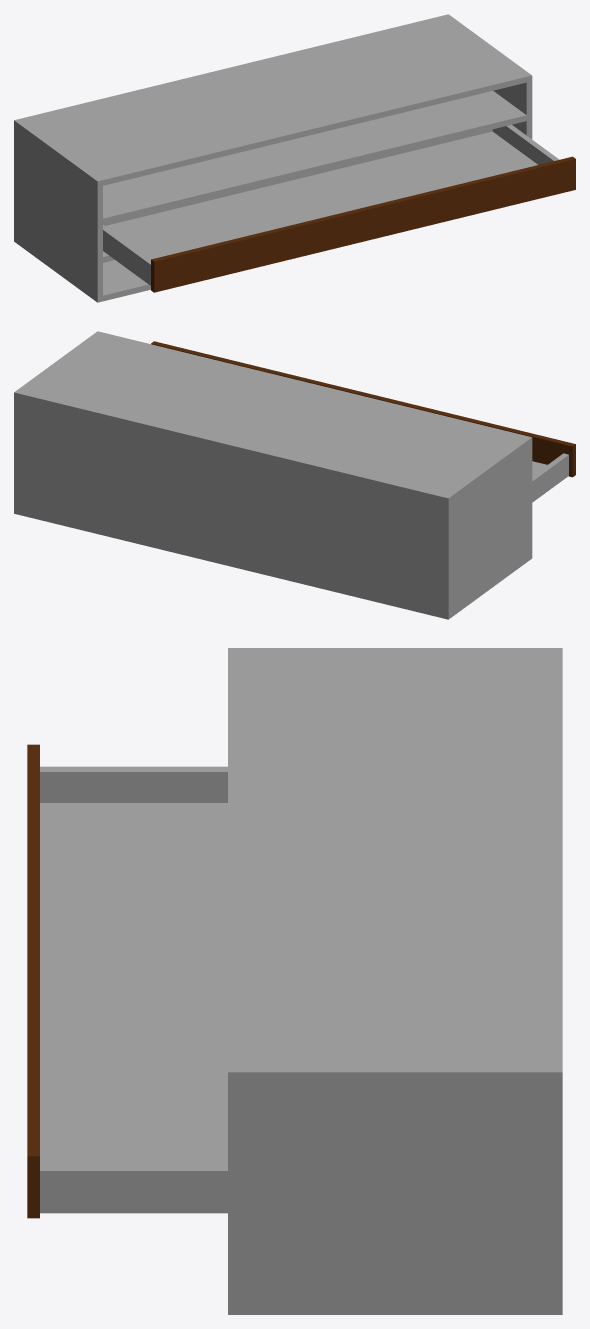
The model's file is meuble_68fa20140a837.glb.
3 renders of one model, top to bottom at view 1: azimuth 30°, elevation 25°; view 2: azimuth 150°, elevation 25°; view 3: azimuth 270°, elevation 25°, orthographic. The views are drawn at different scales.
Parts seen in each view (by area): view 1: world; view 2: world; view 3: world.
Boxes of the visible parts, bbox=[...] form: world: bbox=[14, 14, 575, 302]; world: bbox=[14, 331, 575, 619]; world: bbox=[27, 648, 562, 1314].
Bounding box in the file's own units: 1.5 × 0.4 × 0.8.
1 material, 1 textured.
